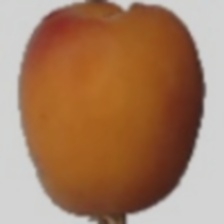apricot: (34, 19, 220, 217)
